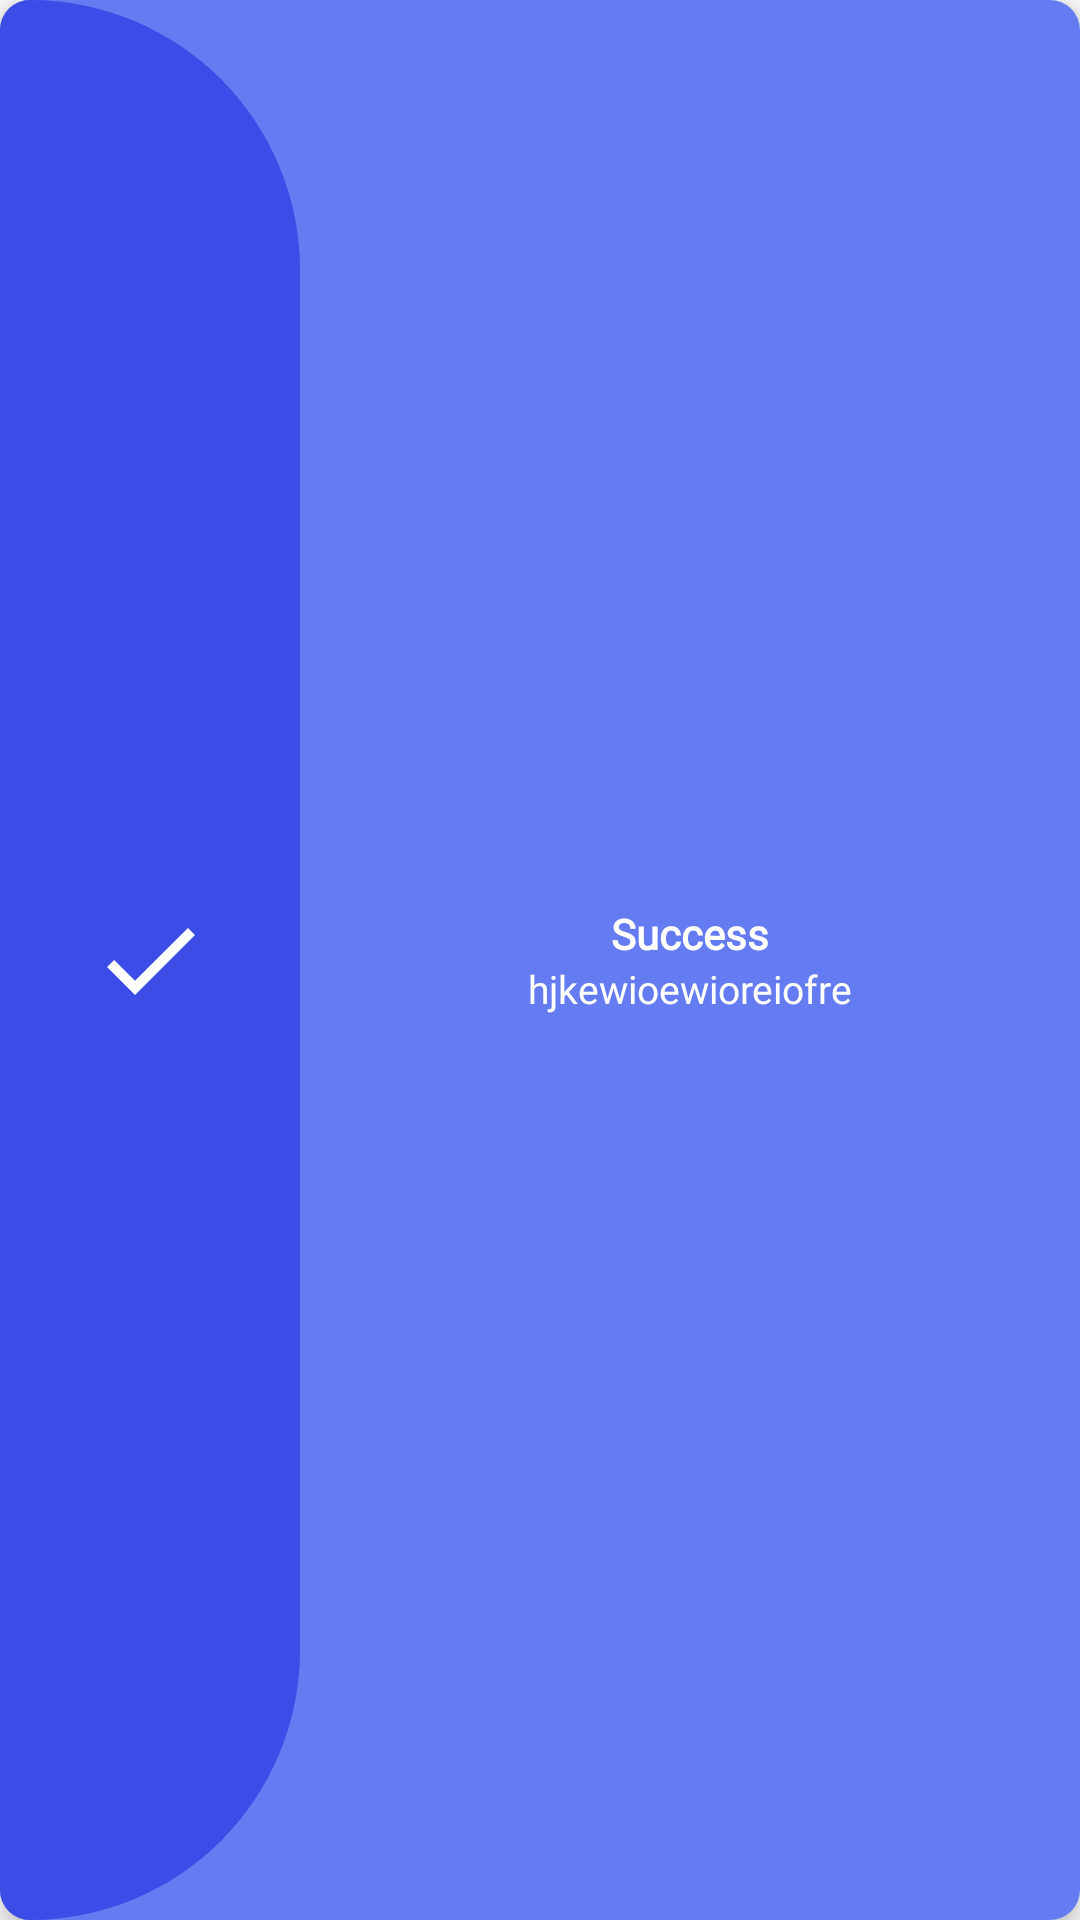

Where icons sit on this 1080px×1920px app screen, as box=[x1, y1, x2, y2]:
check: box=[107, 928, 195, 995]
